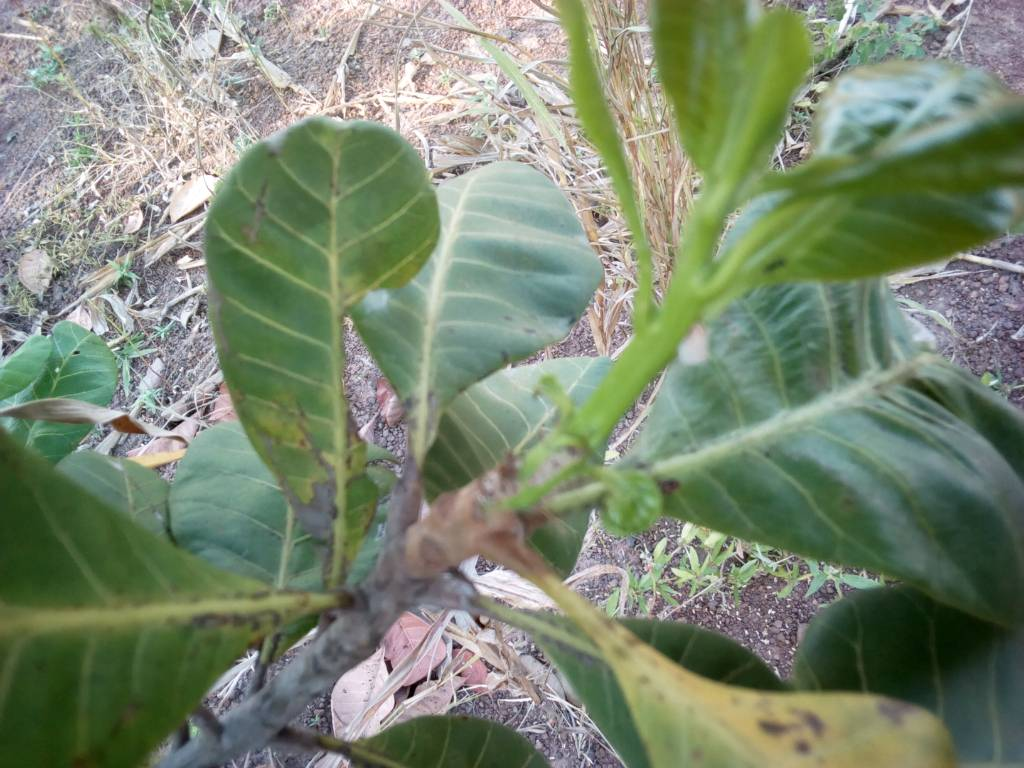Bactériose: (208, 119, 417, 578), (1, 568, 368, 679)
